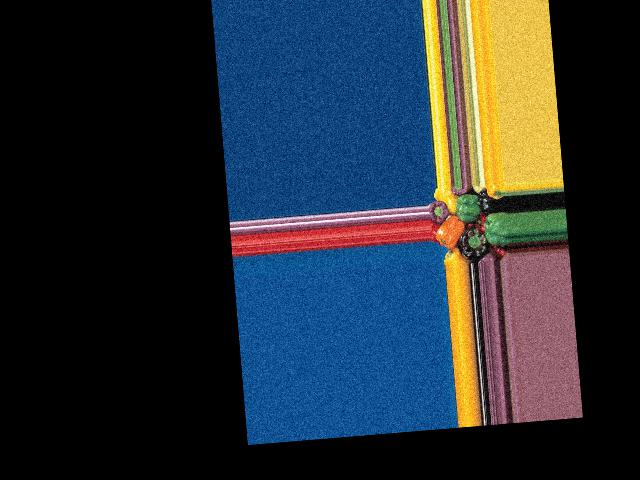bell_pepper: (485, 212, 510, 247)
